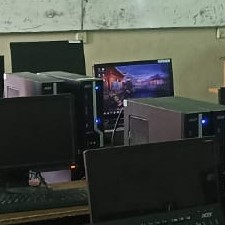monitor: (83, 136, 225, 223), (0, 93, 78, 173), (93, 58, 175, 131), (10, 40, 86, 76)
